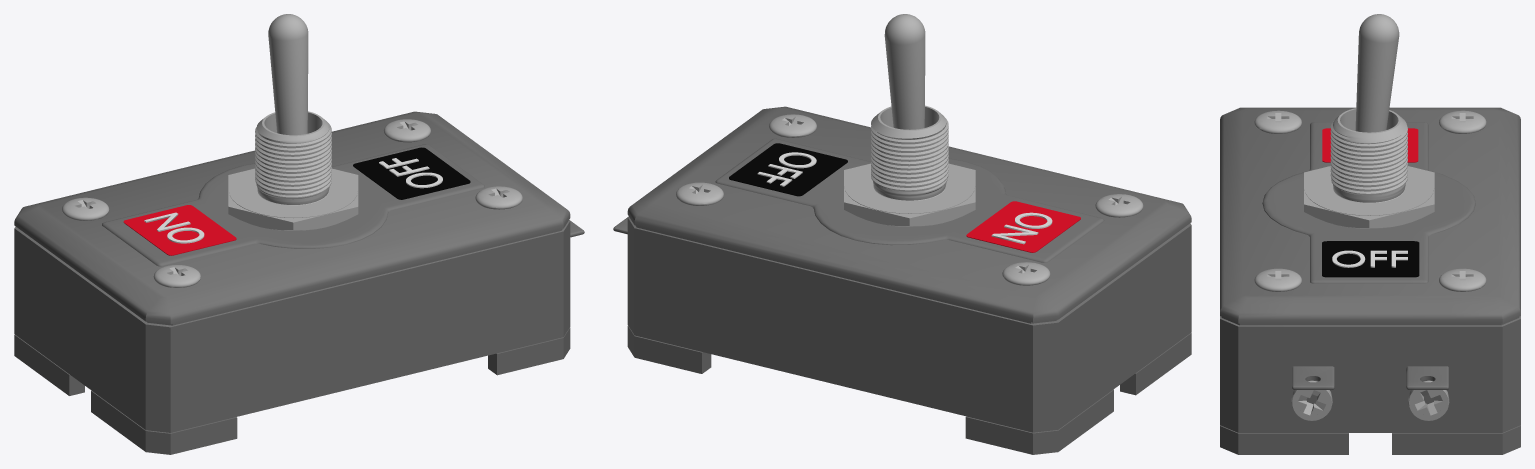
Rendered from switch.glb.
3 renders of one model, left to right at view 1: azimuth 30°, elevation 25°; view 2: azimuth 150°, elevation 25°; view 3: azimuth 270°, elevation 25°, orthographic.
Parts seen in each view (by area): view 1: Cube, Bolt.004, Circle, Cube.001, Sphere, Bolt.006, Plane.002, Plane.001, ON.001, ON; view 2: Cube, Bolt.004, Circle, Cube.001, Sphere, Bolt.006, Plane.002, Plane.001, ON.001, ON; view 3: Cube, Bolt.004, Circle, Cube.001, Sphere, Bolt.006, Plane.002, Bolt.005, Plane.001, ON.001.
Part boxes in pixels (x1,y1,x2,y2): Cube: [14, 111, 584, 432]; Bolt.004: [228, 111, 358, 230]; Circle: [102, 144, 484, 266]; Cube.001: [14, 327, 570, 454]; Sphere: [268, 14, 308, 135]; Bolt.006: [62, 119, 522, 287]; Plane.002: [353, 147, 470, 199]; Plane.001: [123, 205, 236, 255]; ON.001: [379, 158, 442, 188]; ON: [144, 212, 204, 243]; Cube: [613, 106, 1191, 432]; Bolt.004: [844, 105, 975, 226]; Circle: [715, 138, 1104, 262]; Cube.001: [627, 325, 1191, 454]; Sphere: [884, 14, 925, 129]; Bolt.006: [676, 114, 1143, 285]; Plane.002: [729, 143, 847, 196]; Plane.001: [966, 201, 1080, 252]; ON.001: [757, 152, 816, 186]; ON: [991, 212, 1052, 244]; Cube: [1220, 107, 1520, 432]; Bolt.004: [1304, 108, 1434, 228]; Circle: [1262, 122, 1475, 283]; Cube.001: [1220, 425, 1520, 454]; Sphere: [1355, 14, 1399, 132]; Bolt.006: [1254, 110, 1486, 291]; Plane.002: [1322, 241, 1419, 277]; Bolt.005: [1291, 380, 1449, 420]; Plane.001: [1322, 128, 1418, 162]; ON.001: [1332, 250, 1407, 267].
Bounding box in the file's own units: 3.6 × 2.46 × 2.
